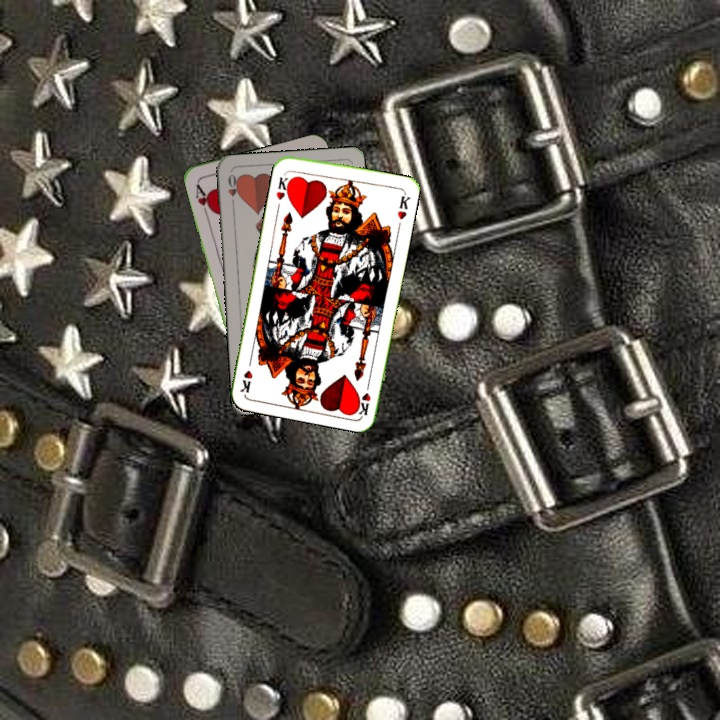HA: (192, 180, 215, 219)
HK: (353, 376, 373, 417), (272, 173, 294, 203)
HO: (224, 170, 241, 210)
